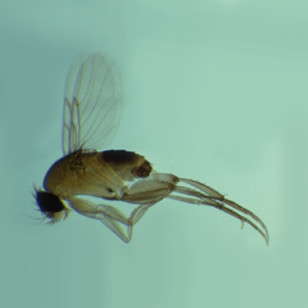phorid fly: (17, 40, 279, 264)
